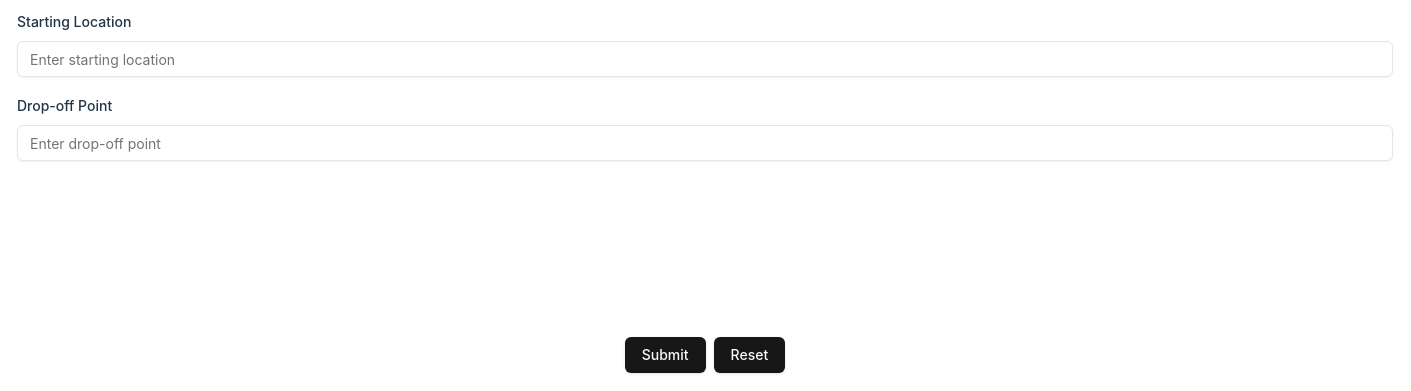
InputForm › handles form reset correctly
Type "Test Origin" into the search field labelled "Starting Location". click: coordinates (705, 59)
box: [17, 41, 1393, 77]
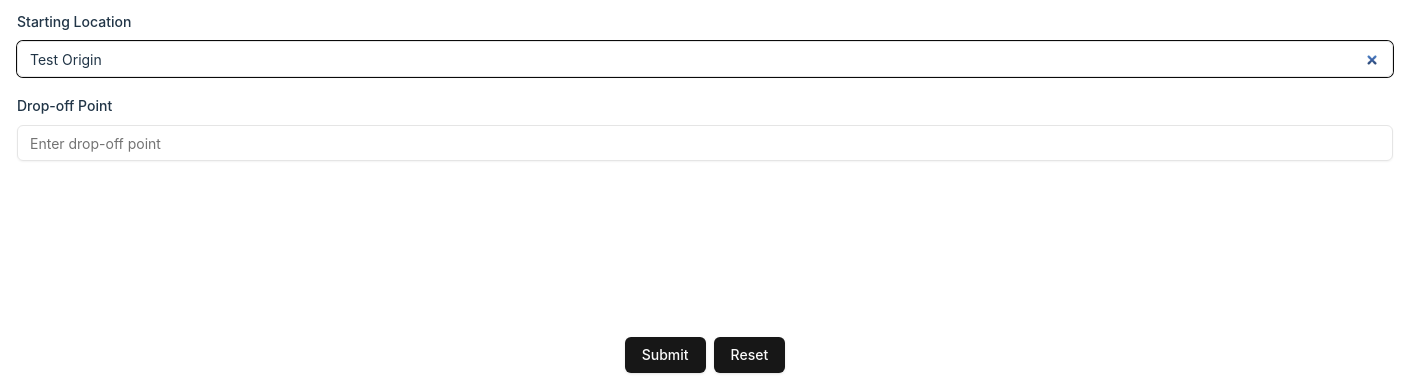
Type "Test Destination" into the search field labelled "Drop-off Point". click: coordinates (705, 143)
box: [17, 125, 1393, 161]
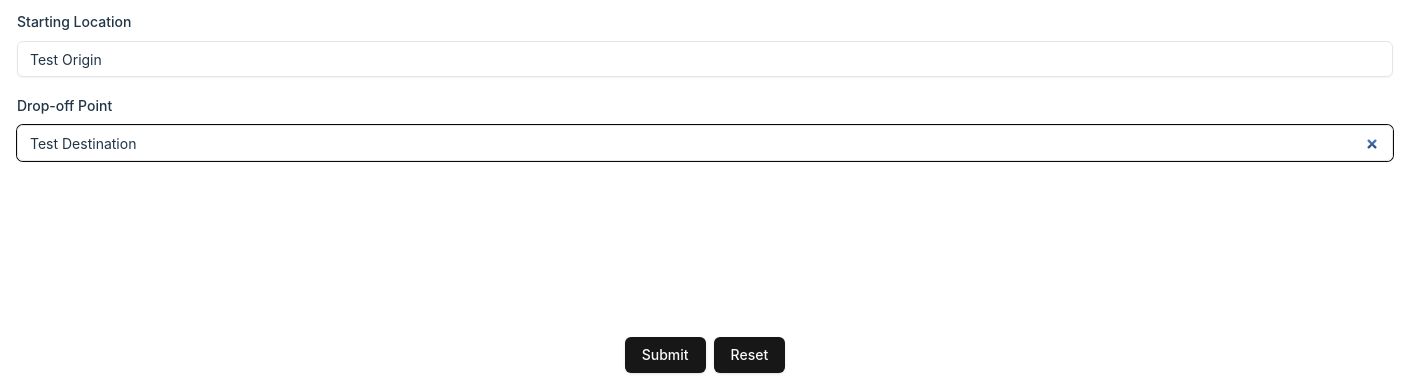
Click the button "Reset". click: coordinates (749, 355)
box: [714, 337, 785, 373]
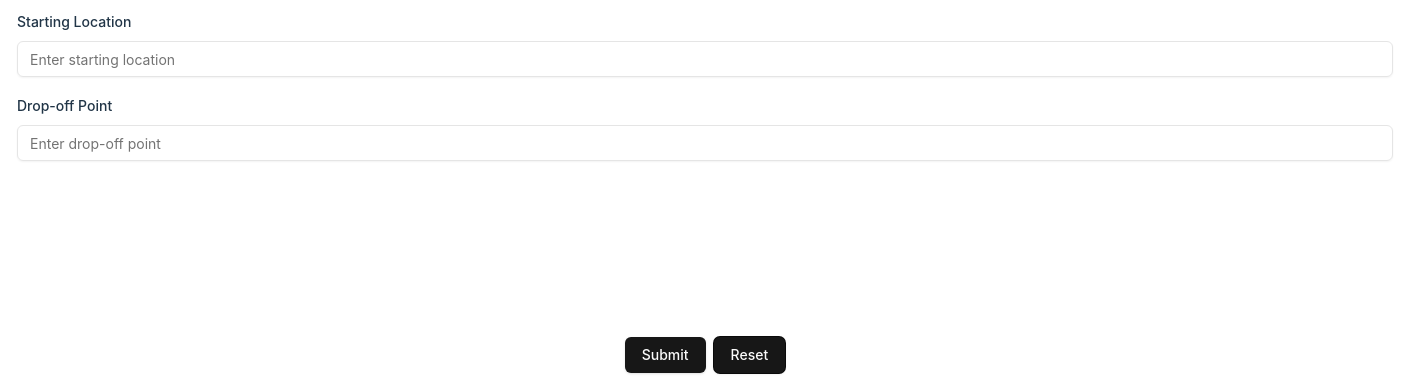
expect the search field labelled "Starting Location" is empty: met, box [17, 41, 1393, 77]
expect the search field labelled "Drop-off Point" is empty: met, box [17, 125, 1393, 161]
